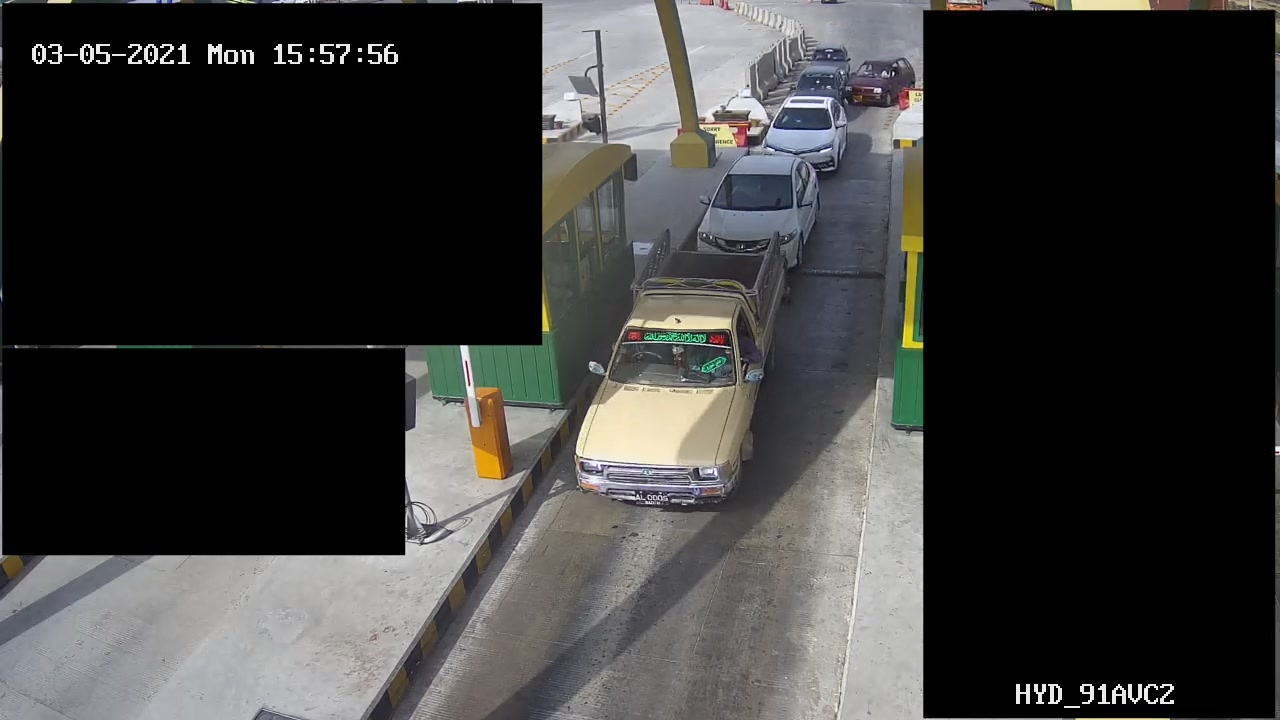F1: (568, 231, 787, 512)
